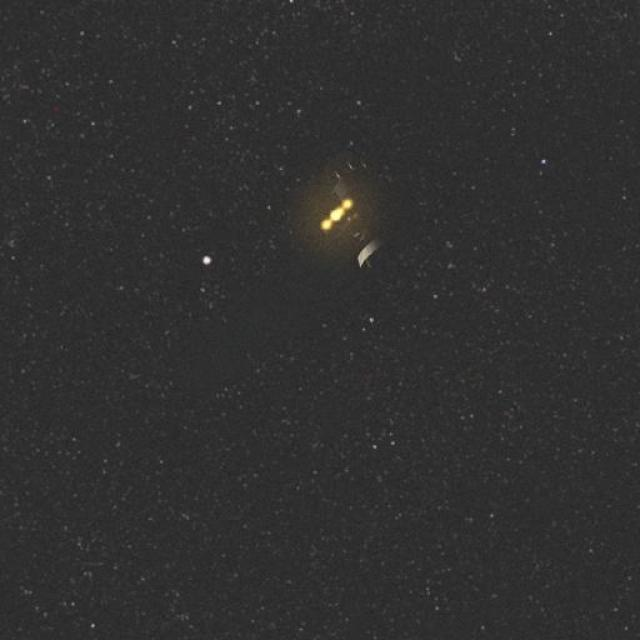earth_observation_sat_1: (304, 134, 409, 292)
